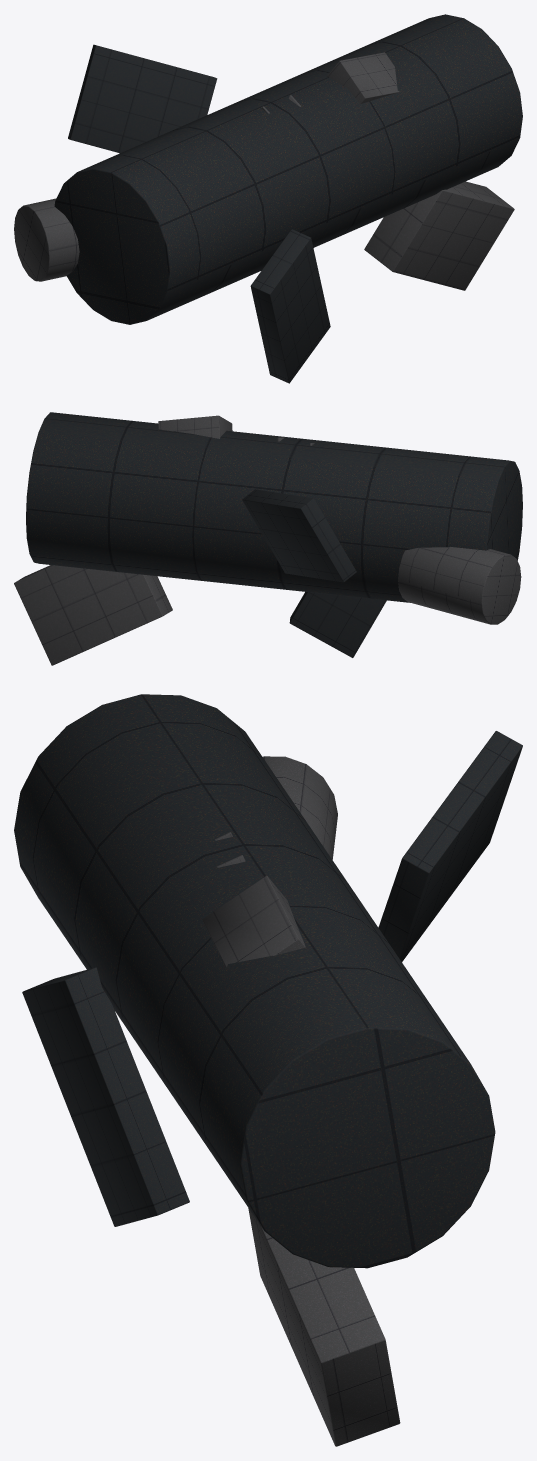
File: wreck_silhouette_v2_opt.glb
3 views of the same model, one above another, from view 1: azimuth 30°, elevation 25°; view 2: azimuth 150°, elevation 25°; view 3: azimuth 270°, elevation 25° (orthographic). The views are drawn at different scales.
Parts seen in each view (by area): view 1: Debris_0, Debris_1; view 2: Debris_0, Debris_1; view 3: Debris_0, Debris_1.
Part boxes in pixels (left/top/right/bottom): Debris_0: left=54, top=14, right=522, bottom=383; Debris_1: left=14, top=52, right=514, bottom=290; Debris_0: left=26, top=412, right=522, bottom=657; Debris_1: left=14, top=415, right=521, bottom=665; Debris_0: left=14, top=694, right=522, bottom=1268; Debris_1: left=202, top=756, right=400, bottom=1446.
Bounding box in the file's own units: 29.46 × 16.17 × 16.08.
Materials: 2 (2 with a texture image).
